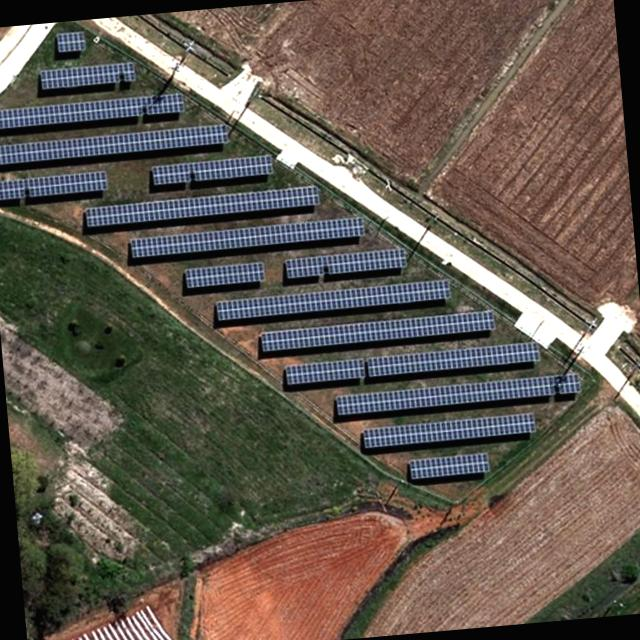solar: (81, 182, 321, 230), (126, 214, 367, 260), (212, 276, 452, 322), (257, 310, 498, 354), (0, 121, 229, 167), (334, 373, 556, 417), (0, 91, 183, 134), (359, 412, 539, 452), (364, 339, 544, 378), (280, 246, 408, 282), (148, 152, 276, 188), (0, 169, 111, 202), (37, 59, 136, 92), (404, 451, 492, 483), (181, 260, 268, 292), (279, 358, 366, 388), (54, 29, 86, 54), (554, 369, 582, 396)
